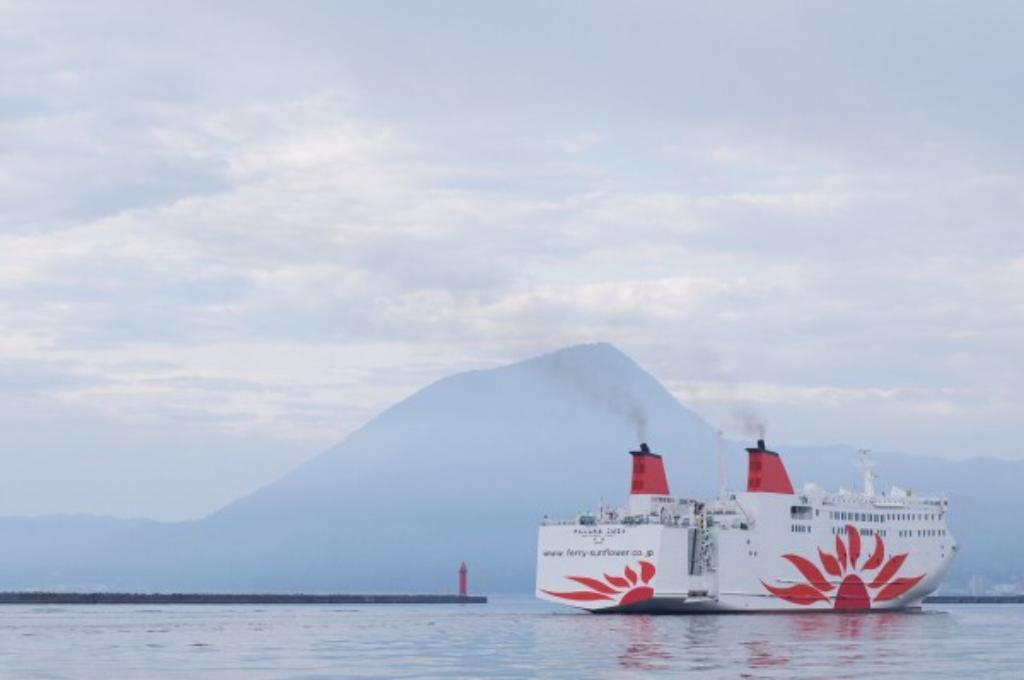PassengerShip: (537, 436, 963, 620)
